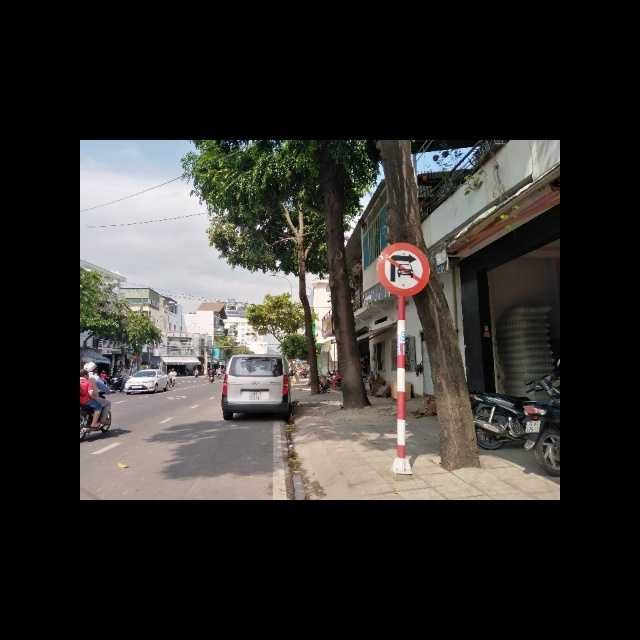Cấm xe ô tô rẽ trái: (375, 242, 431, 296)
